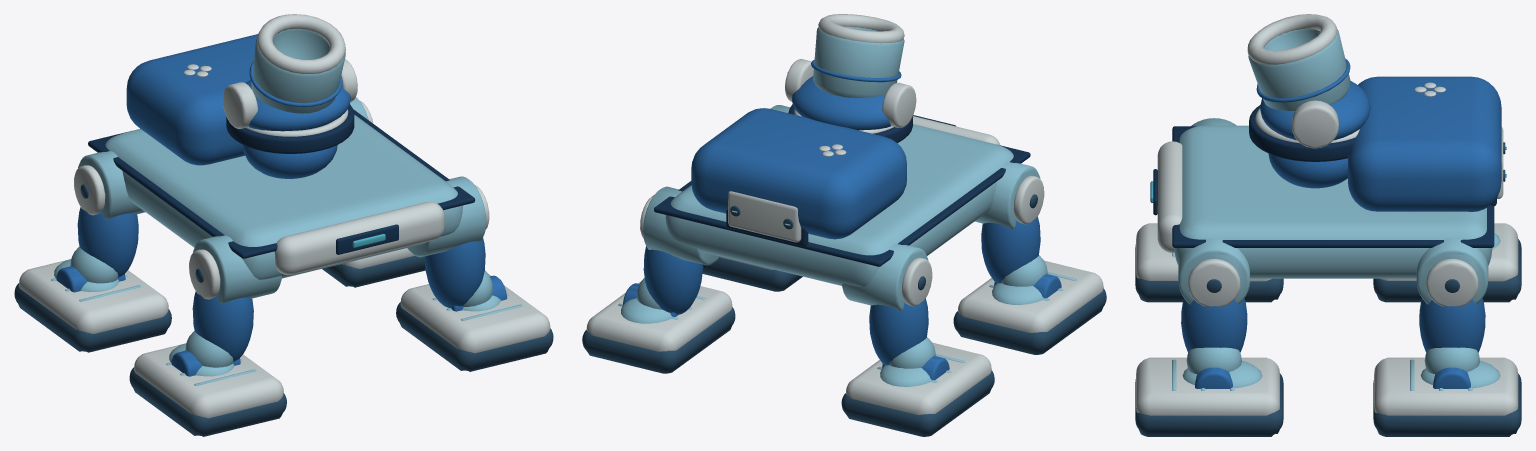
File: TOY_BRIGADIER.hi.glb
3 renders of one model, left to right at view 1: azimuth 30°, elevation 25°; view 2: azimuth 150°, elevation 25°; view 3: azimuth 270°, elevation 25°, orthographic. The views are drawn at different scales.
Visible parts, largest first — view 1: Body, Mortar, Foot_BL, Foot_FL, Foot_FR, Leg_FL, Leg_BL, Leg_FR, Foot_BR; view 2: Body, Mortar, Foot_FL, Foot_BL, Foot_BR, Leg_BL, Leg_FL, Leg_BR, Foot_FR; view 3: Body, Mortar, Foot_FR, Foot_BR, Leg_BR, Leg_FR, Foot_FL, Foot_BL.
Part boxes in pixels (<box>): Body: <box>88,34,475,279</box>; Mortar: <box>223,14,357,131</box>; Foot_BL: <box>14,259,171,352</box>; Foot_FL: <box>129,343,286,436</box>; Foot_FR: <box>396,274,553,371</box>; Leg_FL: <box>185,235,281,367</box>; Leg_BL: <box>70,151,145,283</box>; Leg_FR: <box>407,176,492,307</box>; Foot_BR: <box>322,248,425,287</box>; Body: <box>654,104,1030,287</box>; Mortar: <box>785,14,916,130</box>; Foot_FL: <box>953,260,1106,354</box>; Foot_BL: <box>841,342,994,436</box>; Foot_BR: <box>582,282,735,373</box>; Leg_BL: <box>842,244,935,368</box>; Leg_FL: <box>975,162,1047,286</box>; Leg_BR: <box>636,186,719,314</box>; Foot_FR: <box>702,256,802,291</box>; Body: <box>1150,76,1506,278</box>; Mortar: <box>1247,14,1370,148</box>; Foot_FR: <box>1135,357,1283,436</box>; Foot_BR: <box>1373,357,1521,436</box>; Leg_BR: <box>1416,238,1488,373</box>; Leg_FR: <box>1178,238,1249,373</box>; Foot_FL: <box>1135,223,1283,302</box>; Foot_BL: <box>1373,223,1521,302</box>.
Size of the model in its own units: 3.13 by 2.58 by 2.79.
